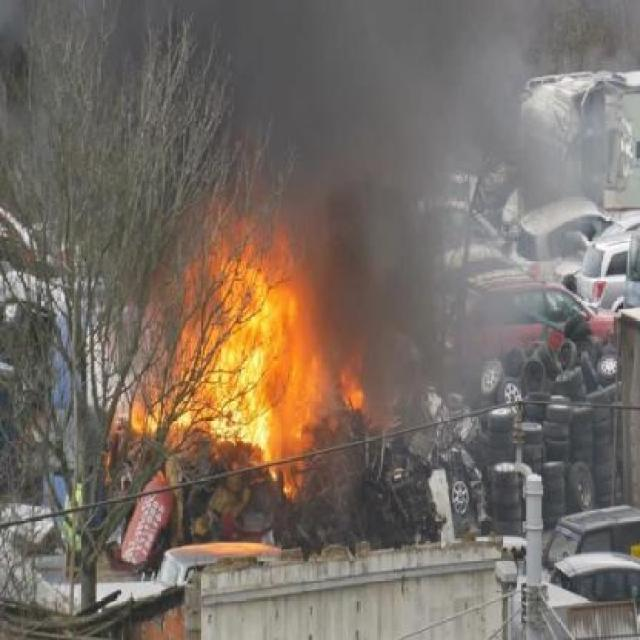Fire: (80, 177, 382, 498)
Smoke: (6, 9, 570, 228), (302, 173, 479, 494)
